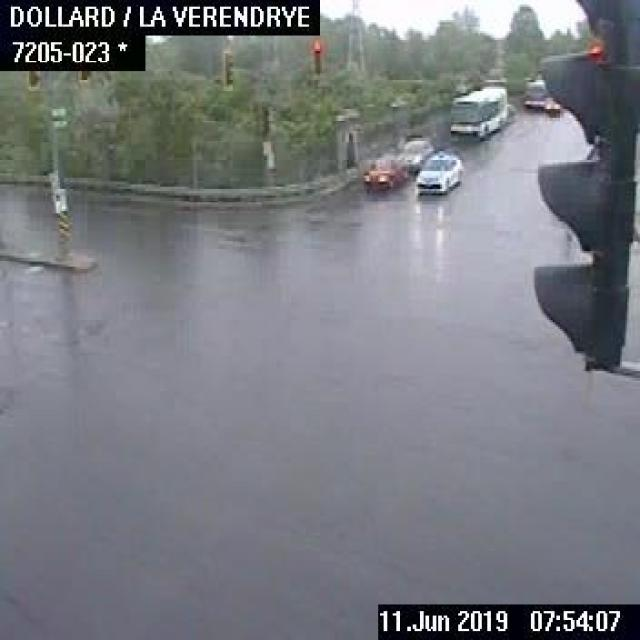bus: (447, 82, 508, 136), (520, 73, 546, 109)
vehicle: (410, 147, 464, 196), (360, 149, 405, 193), (392, 136, 430, 171), (543, 95, 562, 117)
